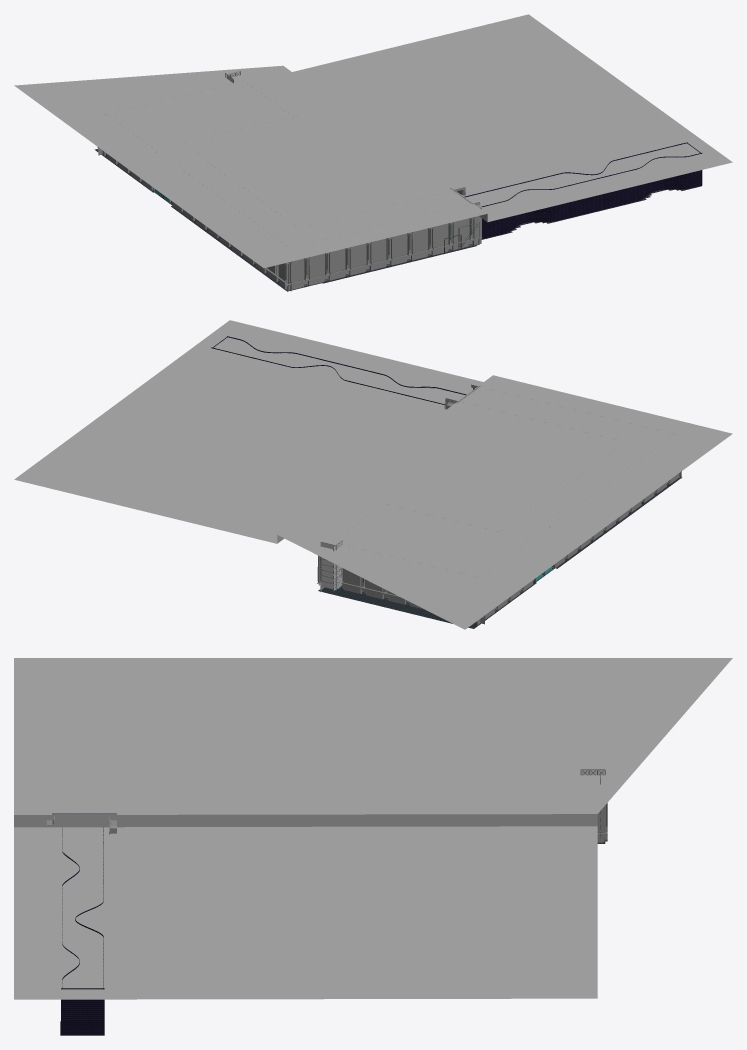
File: Stage1(5).fbx
3 views of the same model, one above another, from view 1: azimuth 30°, elevation 25°; view 2: azimuth 150°, elevation 25°; view 3: azimuth 270°, elevation 25° (orthographic). The views are drawn at different scales.
Visible parts, largest first — view 1: 1000jang, Staged1.002, Badack; view 2: 1000jang, Staged1.002, Badack; view 3: 1000jang, Staged1.002.
Part boxes in pixels (left/top/right/bottom): 1000jang: left=14, top=14, right=732, bottom=268; Staged1.002: left=97, top=71, right=702, bottom=291; Badack: left=95, top=149, right=701, bottom=291; 1000jang: left=14, top=320, right=732, bottom=629; Staged1.002: left=211, top=336, right=681, bottom=624; Badack: left=318, top=477, right=681, bottom=628; 1000jang: left=14, top=658, right=732, bottom=999; Staged1.002: left=46, top=769, right=607, bottom=1035.
Bounding box in the file's own units: 62070 × 5701 × 57247.
